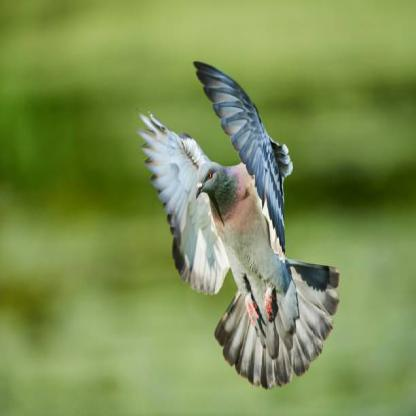Rock Pigeon: (176, 140, 318, 384)
